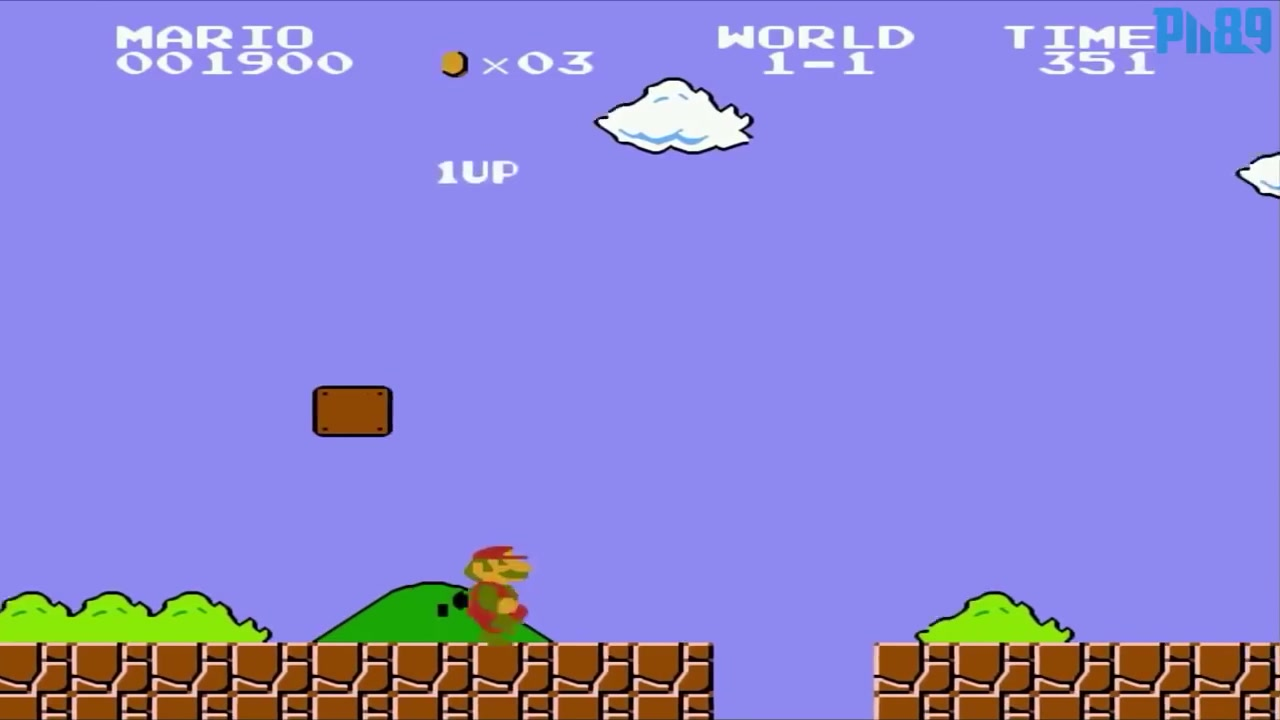mario: (448, 529, 538, 645)
